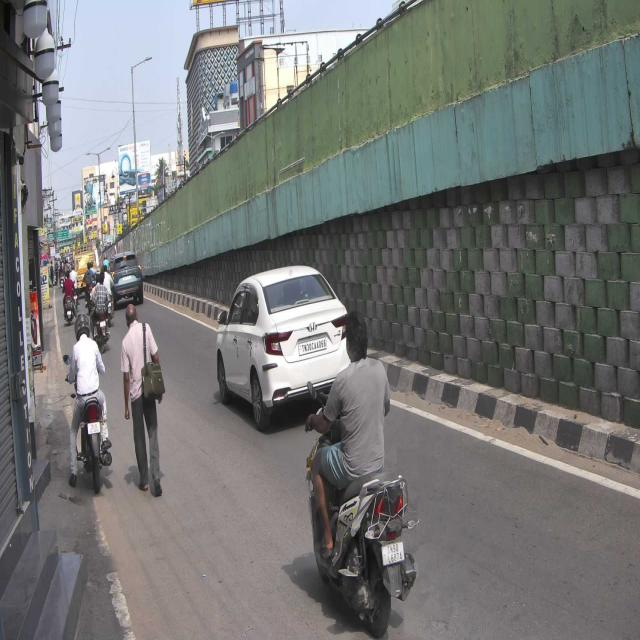single_rider: (302, 308, 417, 640)
